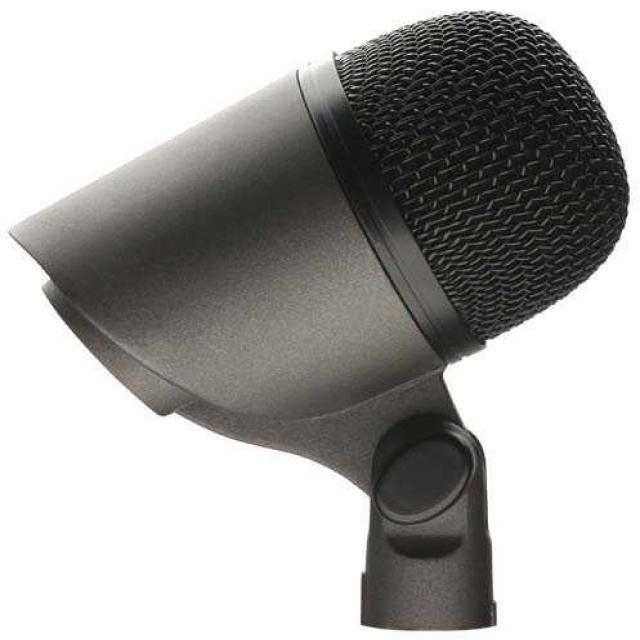microphone: (19, 12, 616, 376)
